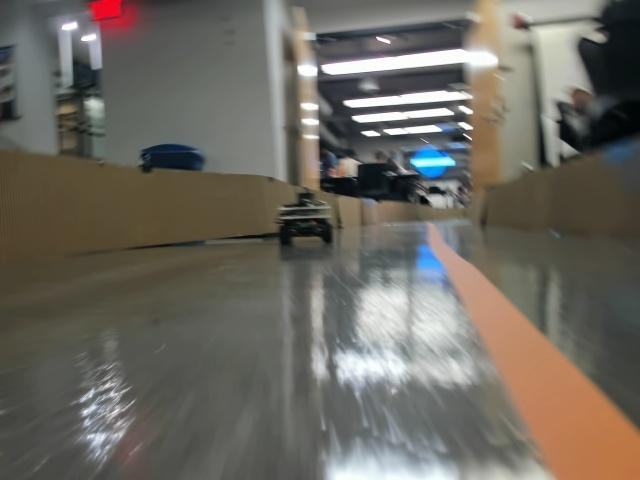Car: (276, 192, 332, 244)
